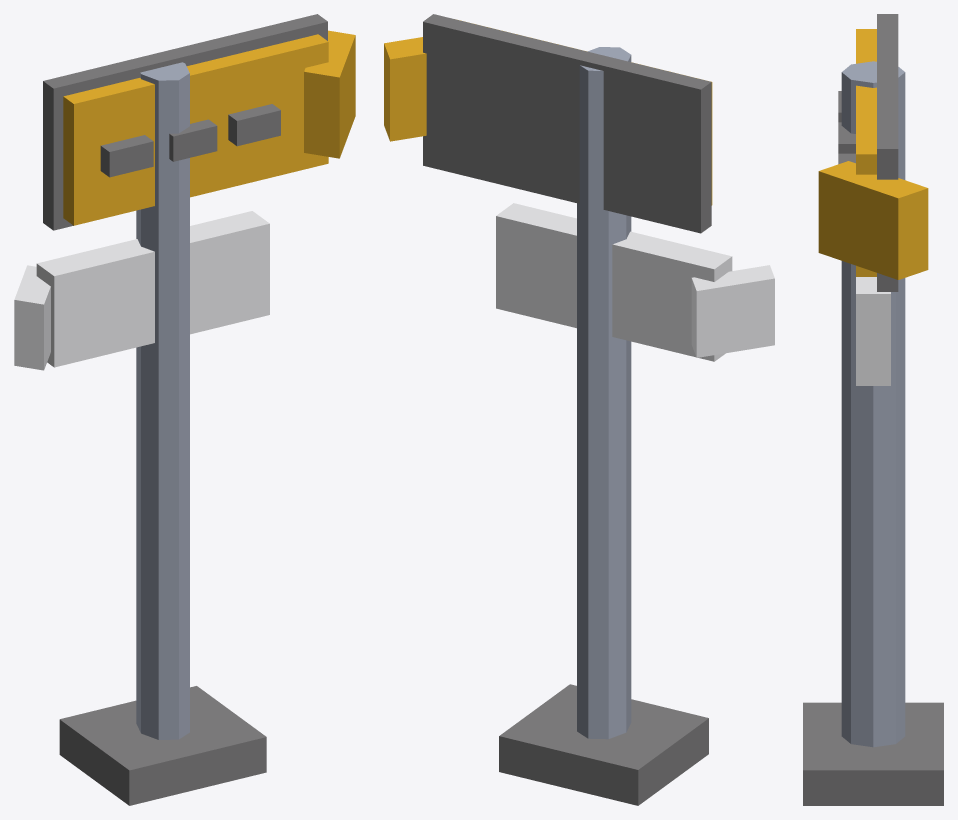
File: sign_dir.glb
3 renders of one model, left to right at view 1: azimuth 30°, elevation 25°; view 2: azimuth 150°, elevation 25°; view 3: azimuth 270°, elevation 25°, orthographic.
Parts seen in each view (by area): view 1: sign_dir; view 2: sign_dir; view 3: sign_dir.
Part boxes in pixels (left/top/right/bottom): sign_dir: left=14, top=14, right=355, bottom=805; sign_dir: left=384, top=14, right=774, bottom=805; sign_dir: left=803, top=14, right=943, bottom=805.
Size of the model in its own units: 0.75 by 1.38 by 0.25.
